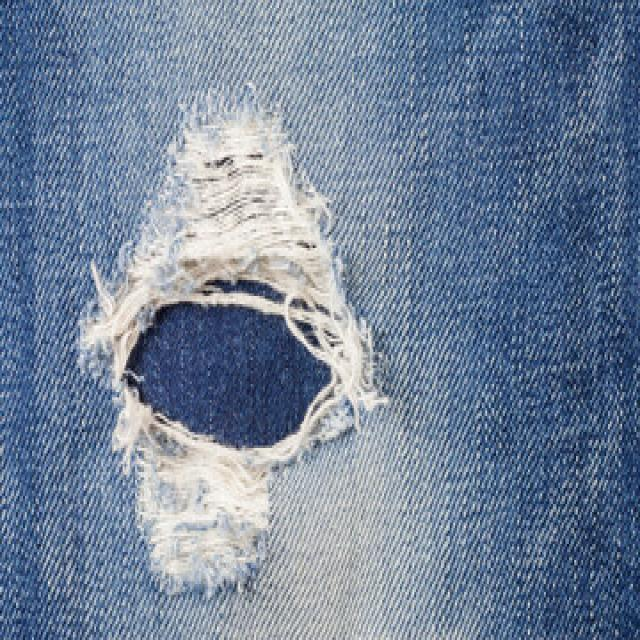Hole: (79, 86, 387, 594)
